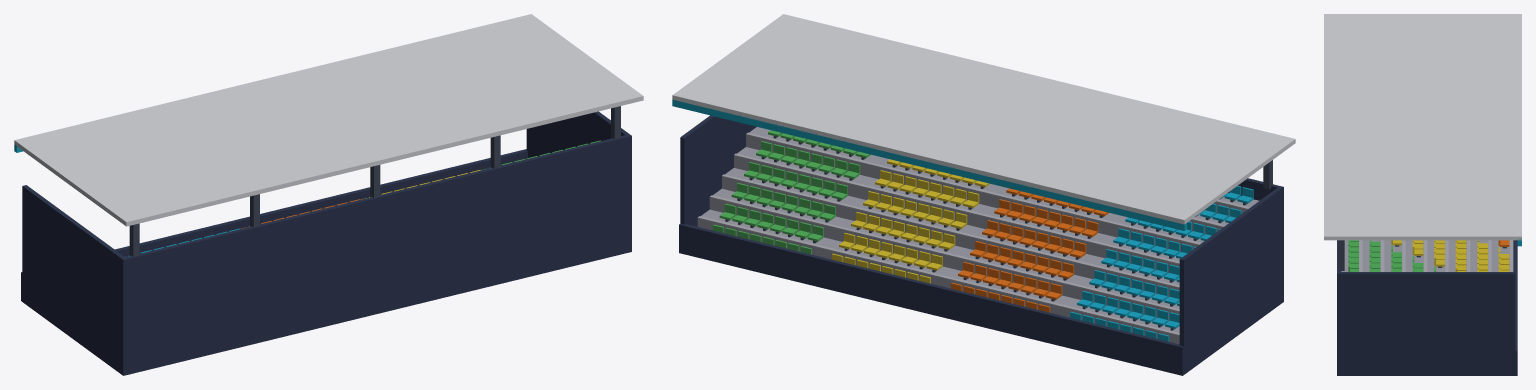
File: grandstand.obj
3 views of the same model, side by side, from view 1: azimuth 30°, elevation 25°; view 2: azimuth 150°, elevation 25°; view 3: azimuth 270°, elevation 25° (orthographic). The views are drawn at different scales.
Parts seen in each view (by area): view 1: grandstand; view 2: grandstand; view 3: grandstand.
Boxes of the visible parts, x1,y1,x2,y2 form: grandstand: (14,14,643,375); grandstand: (672,14,1295,375); grandstand: (1324,14,1521,375).
Size of the model in its own units: 2450 by 725 by 920.
